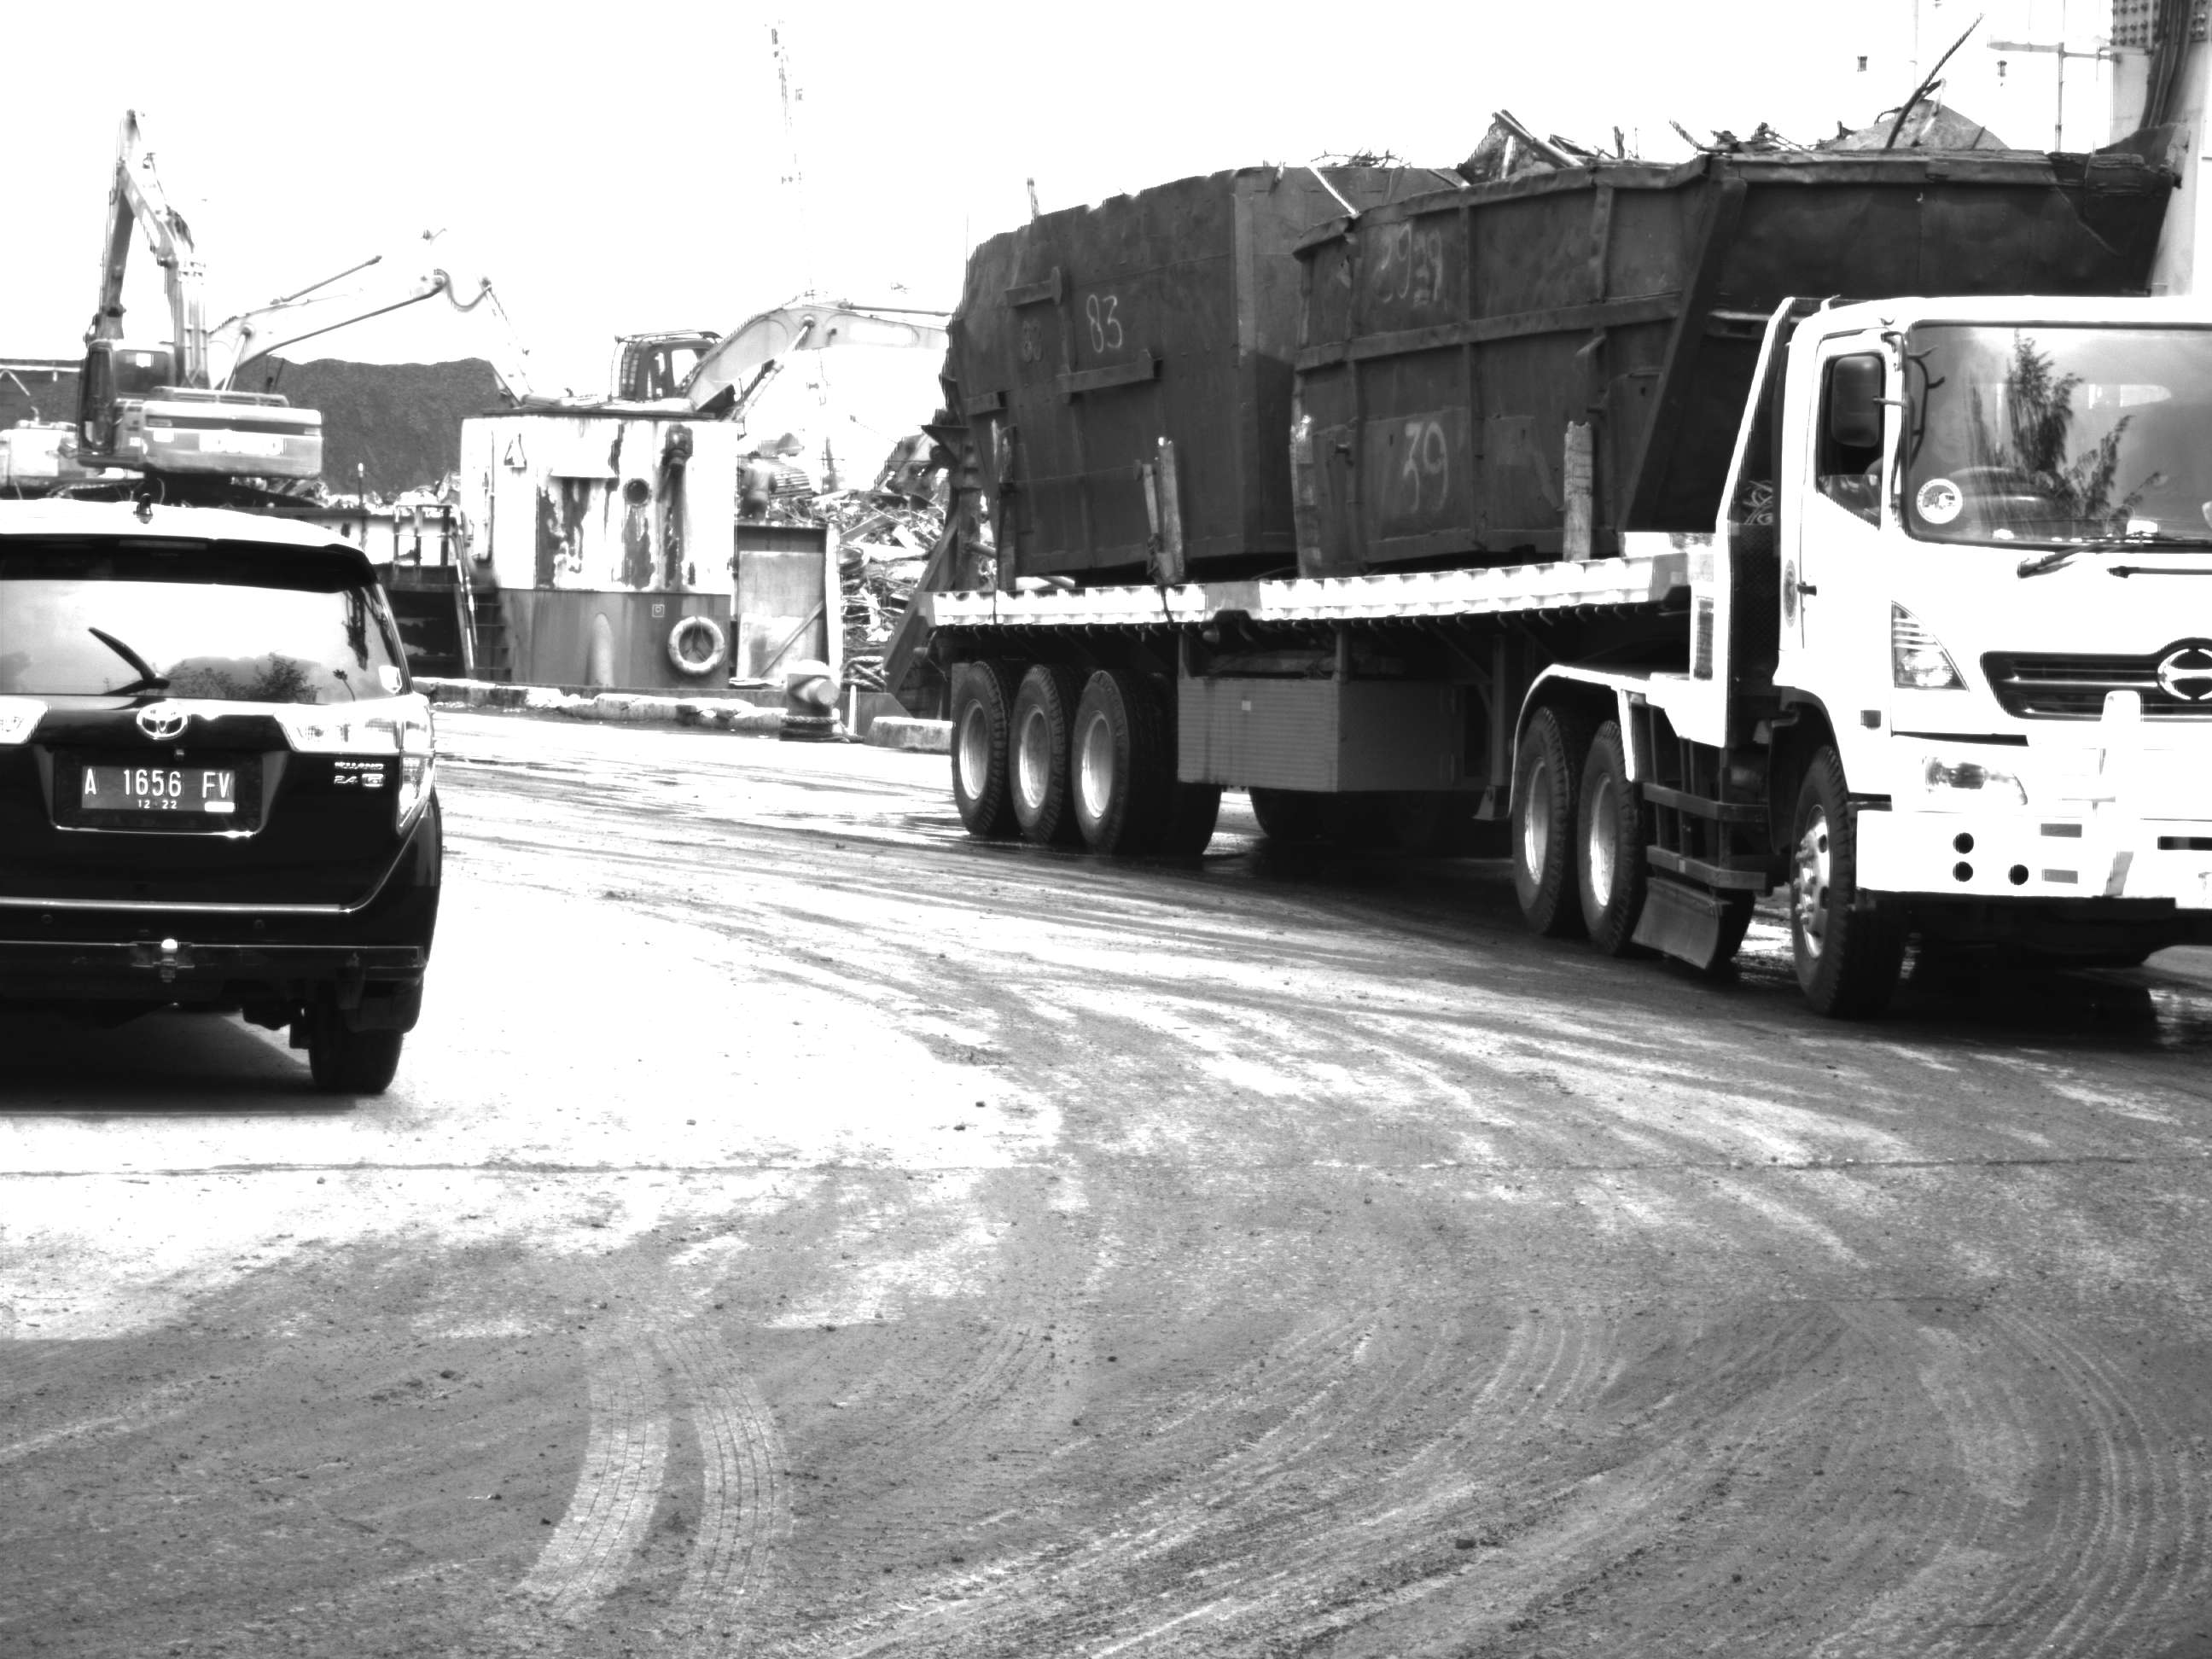day_small_rear: (2, 504, 450, 1103)
plate: (82, 760, 237, 816)
